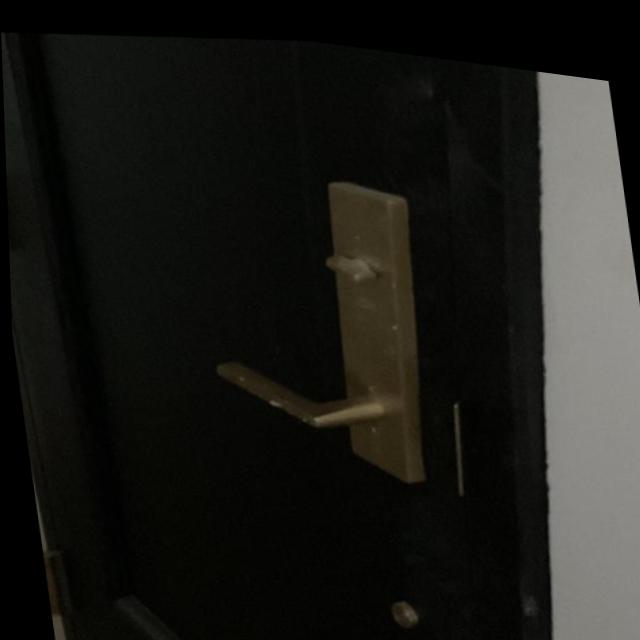door_handle: (190, 306, 476, 501)
